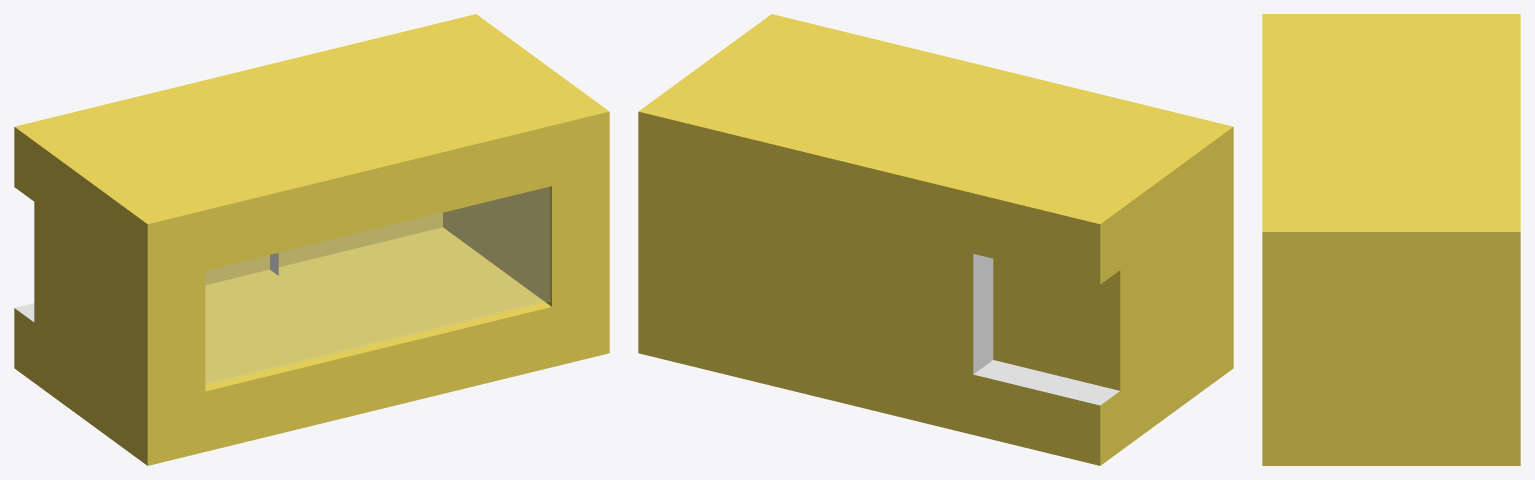
File: L_Shape_Assembly.glb
3 renders of one model, left to right at view 1: azimuth 30°, elevation 25°; view 2: azimuth 150°, elevation 25°; view 3: azimuth 270°, elevation 25°, orthographic. The views are drawn at different scales.
Parts seen in each view (by area): view 1: Module_L_Shape, Module_L_Shape_Window.002; view 2: Module_L_Shape; view 3: Module_L_Shape.
Part boxes in pixels (x1,y1,x2,y2): Module_L_Shape: (14, 14, 609, 465); Module_L_Shape_Window.002: (205, 187, 550, 384); Module_L_Shape: (638, 14, 1233, 465); Module_L_Shape: (1262, 14, 1520, 465).
Bounding box in the file's own units: 4 × 2 × 2.
